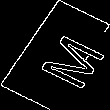M_NW: (15, 22, 95, 88)
